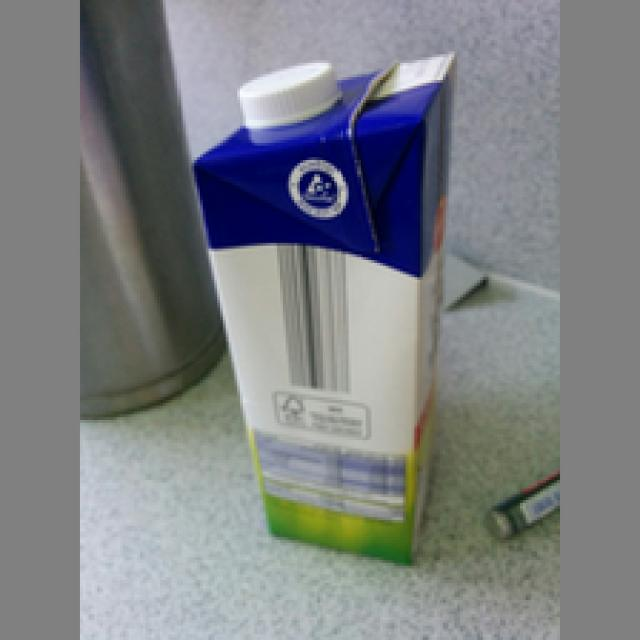groceries: (175, 51, 474, 572)
